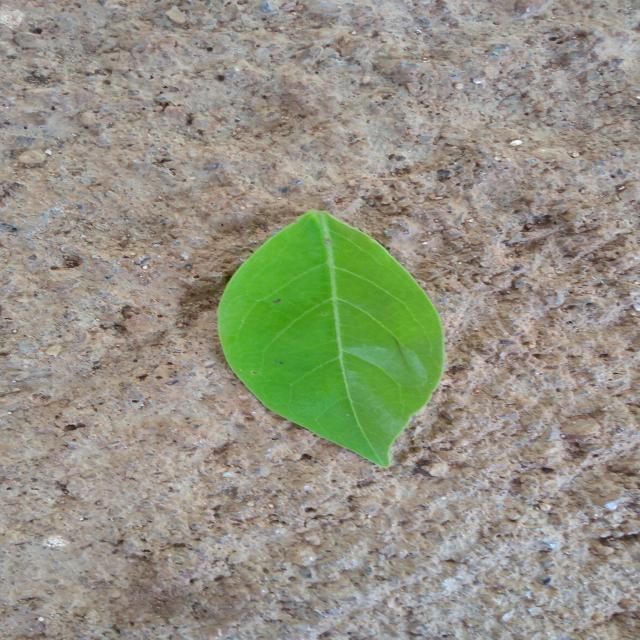sampige: (218, 211, 444, 466)
